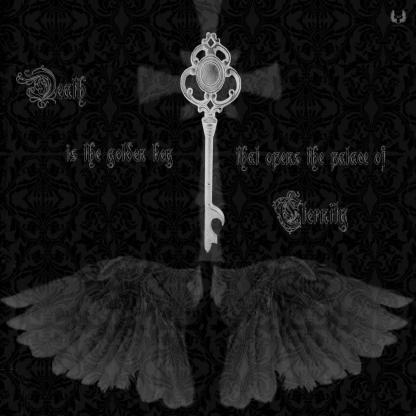key: (166, 28, 244, 258)
